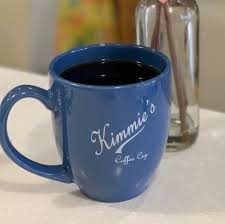cup: (1, 43, 174, 219)
